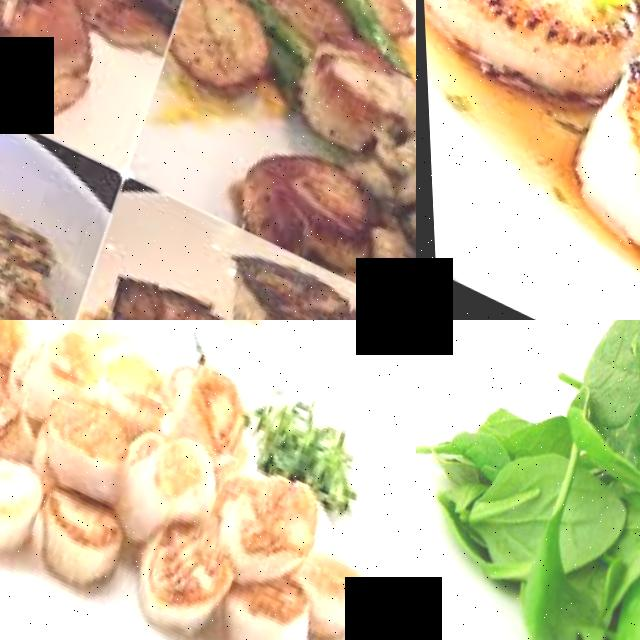sea scallops: (551, 17, 640, 316), (417, 0, 640, 112), (210, 443, 330, 586), (109, 408, 225, 549), (26, 378, 141, 506), (292, 530, 382, 638), (0, 320, 88, 426), (209, 557, 320, 640), (0, 431, 50, 567), (0, 336, 26, 471)
spinach: (546, 460, 630, 573)
